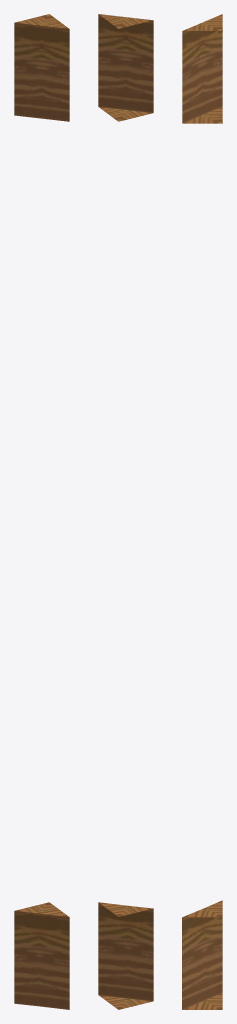
The model's file is Corner_Exterior_TopDown.gltf.
3 views of the same model, side by side, from view 1: azimuth 30°, elevation 25°; view 2: azimuth 210°, elevation 25°; view 3: azimuth 270°, elevation 25° (orthographic).
Parts seen in each view (by area): view 1: Corner_Exterior_TopDown; view 2: Corner_Exterior_TopDown; view 3: Corner_Exterior_TopDown.
Part boxes in pixels (x1,y1,x2,y2): Corner_Exterior_TopDown: (14,14,69,1009); Corner_Exterior_TopDown: (98,14,153,1009); Corner_Exterior_TopDown: (182,14,222,1009).
Size of the model in its own units: 0.093 by 2.47 by 0.093.
Materials: 1 (1 with a texture image).
